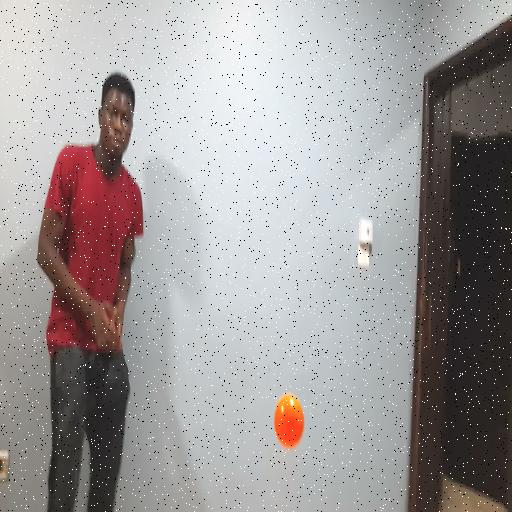plastic-ball: (271, 388, 306, 452)
